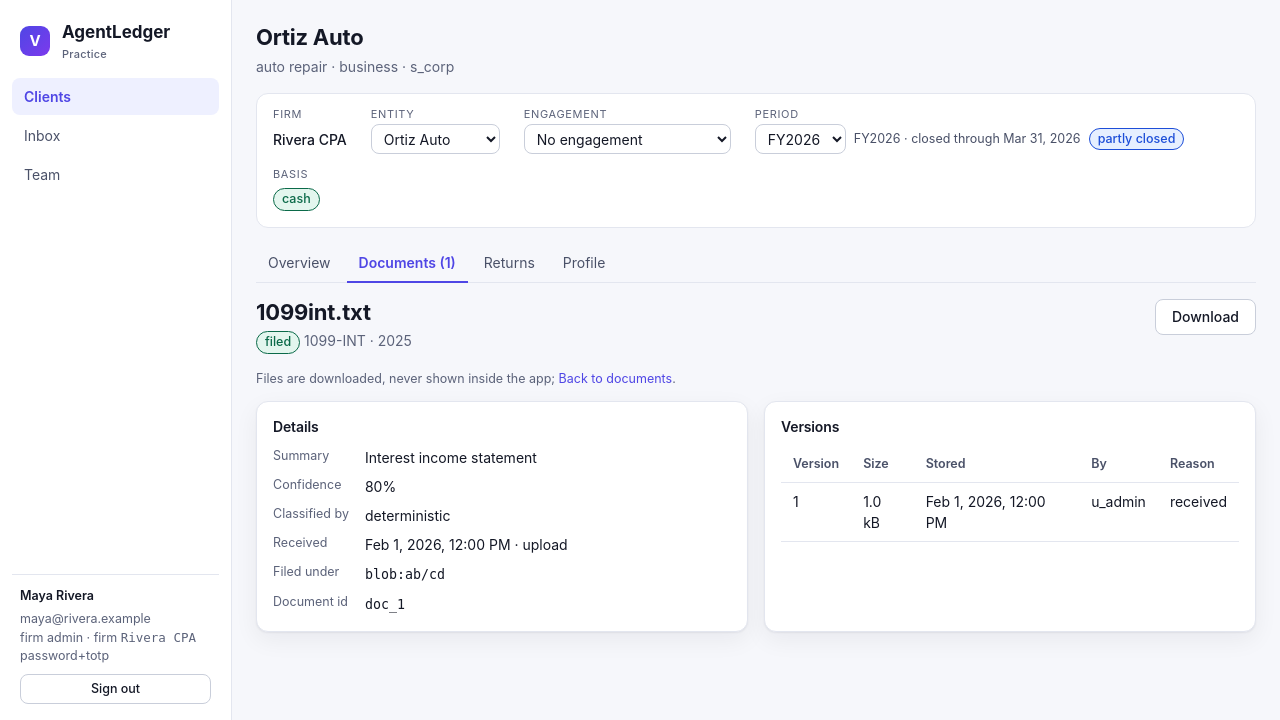
Test: documents › downloads go through a signed link and a 410 is shown as Gone
Expected: the heading "Ortiz Auto" is shown, [256, 24, 363, 50]
Click the button with aria-label "Download 1099int.txt" at (1205, 316), box [1155, 298, 1256, 334]
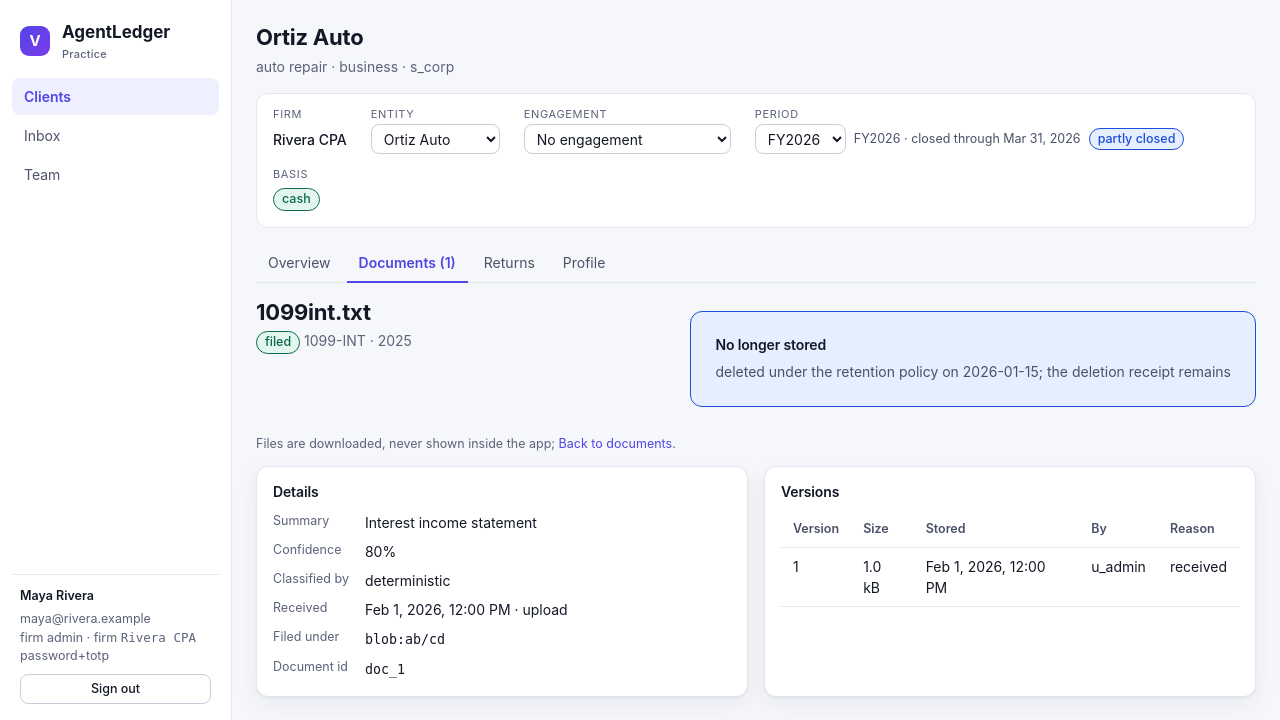
Now the message "No longer stored" shows "deletion receipt", box [715, 363, 1231, 380]
